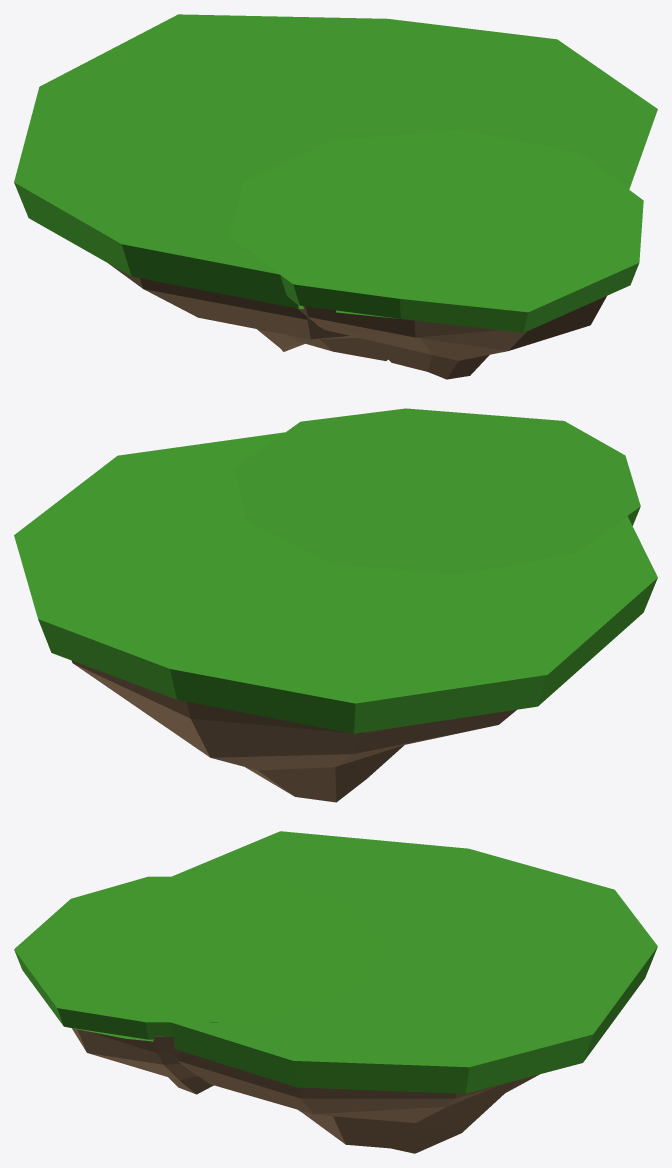
The model's file is Arena_Large.fbx.
3 views of the same model, one above another, from view 1: azimuth 30°, elevation 25°; view 2: azimuth 150°, elevation 25°; view 3: azimuth 270°, elevation 25° (orthographic). The views are drawn at different scales.
Parts seen in each view (by area): view 1: ArenaCover, ArenaBase; view 2: ArenaCover, ArenaBase; view 3: ArenaCover, ArenaBase.
Boxes of the visible parts, bbox=[...] form: ArenaCover: bbox=[14, 14, 657, 332]; ArenaBase: bbox=[108, 263, 606, 379]; ArenaCover: bbox=[14, 408, 657, 733]; ArenaBase: bbox=[72, 543, 516, 802]; ArenaCover: bbox=[14, 831, 657, 1093]; ArenaBase: bbox=[72, 1028, 539, 1153].
Bounding box in the file's own units: 1033 × 414 × 1233.
